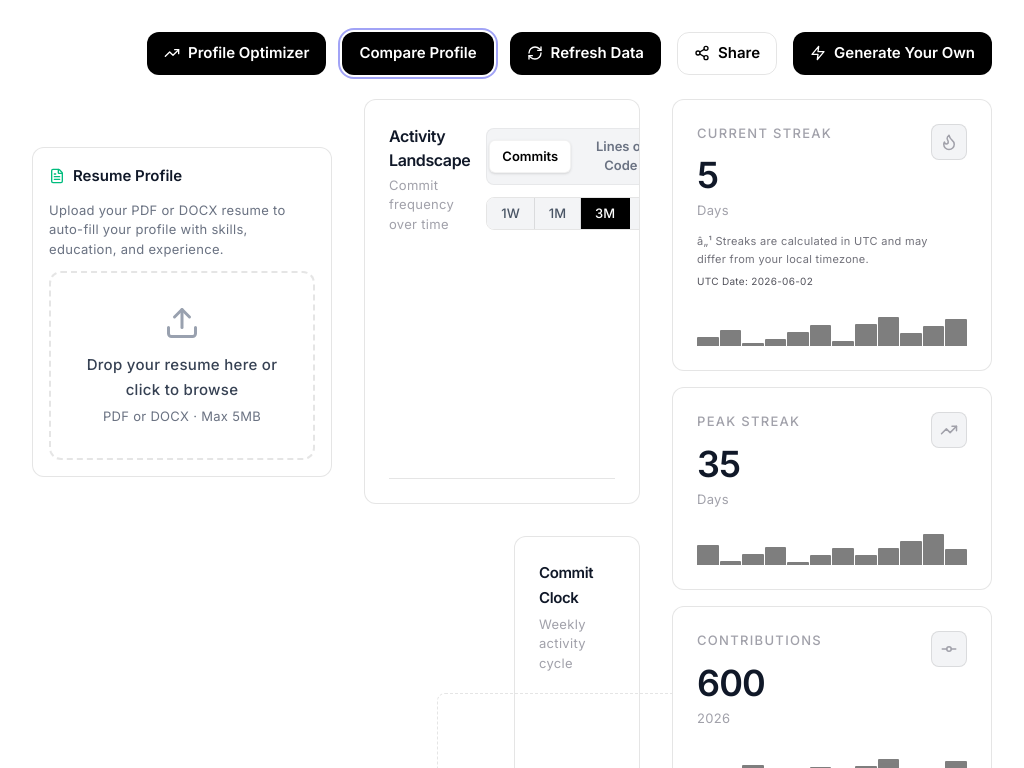
Test: DashboardClient › transitions to compare mode when a user is successfully fetched
The width and height of the screenshot is (1024, 768).
Step 1. Click the button "Compare Profile" → (418, 53), box 342,32 -> 494,75
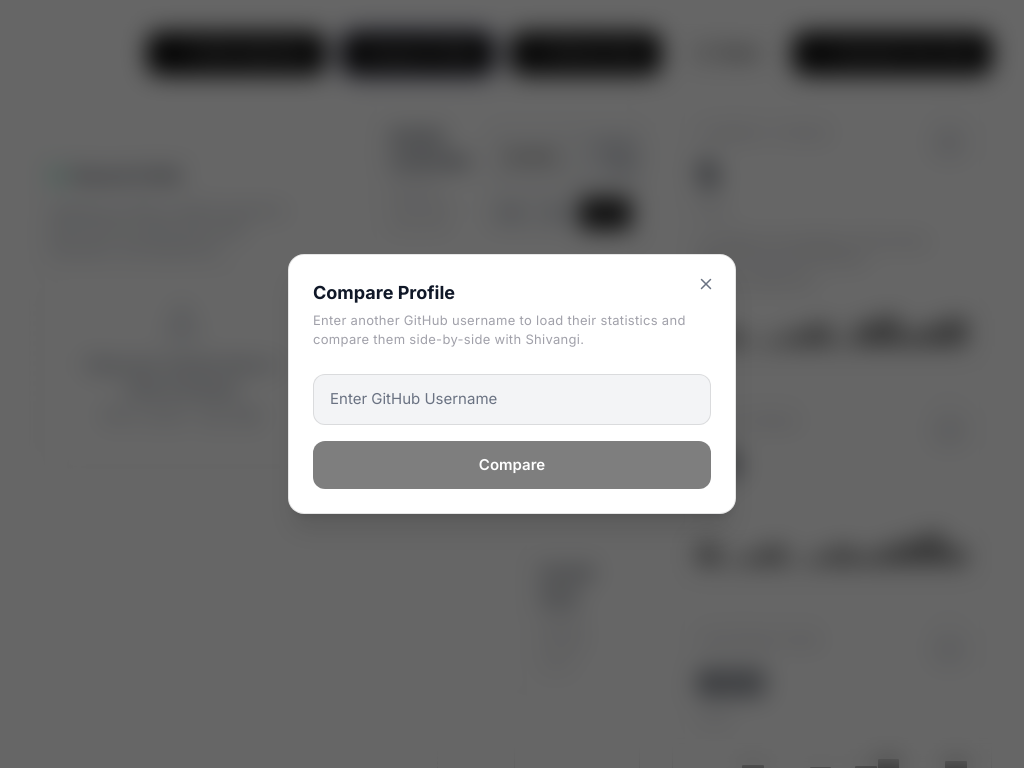
Step 2. Type "JhaSourav07" into the field with placeholder "Enter GitHub Username" → (512, 399), box 313,374 -> 711,425
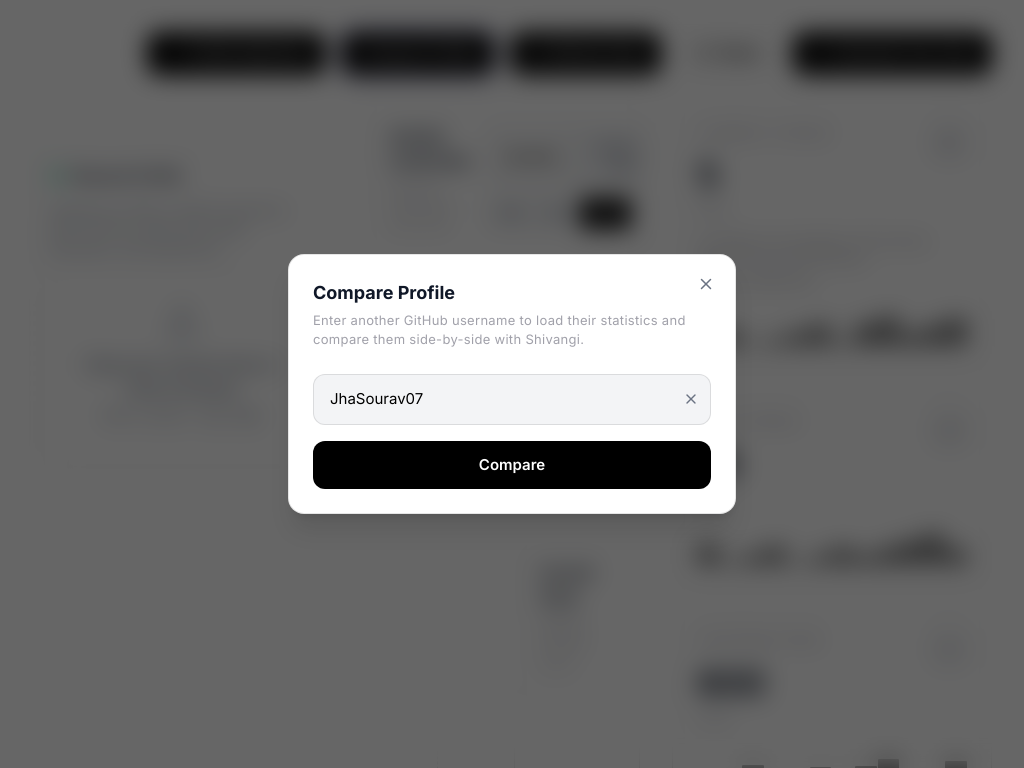
Step 3. Click the button "Compare" → (512, 465), box 313,440 -> 711,489
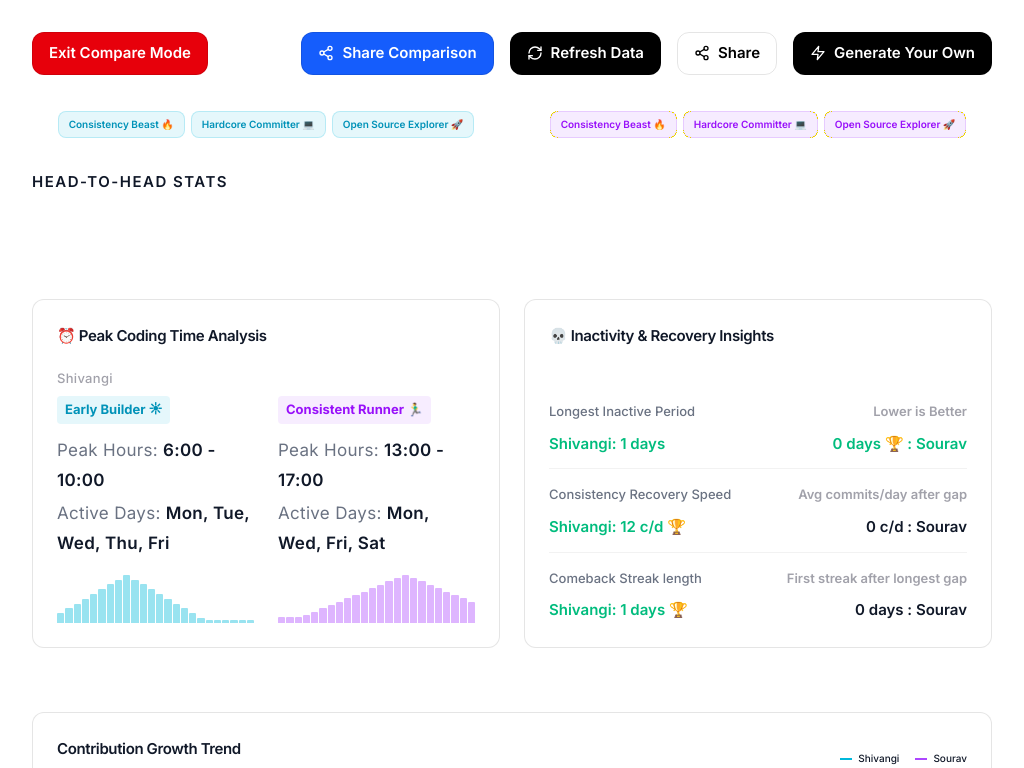
Now the button "Exit Compare Mode" is shown, box 32,32 -> 208,75
Now the text "Shivangi" below "⏰ Peak Coding Time Analysis" is shown, box 57,370 -> 113,386
